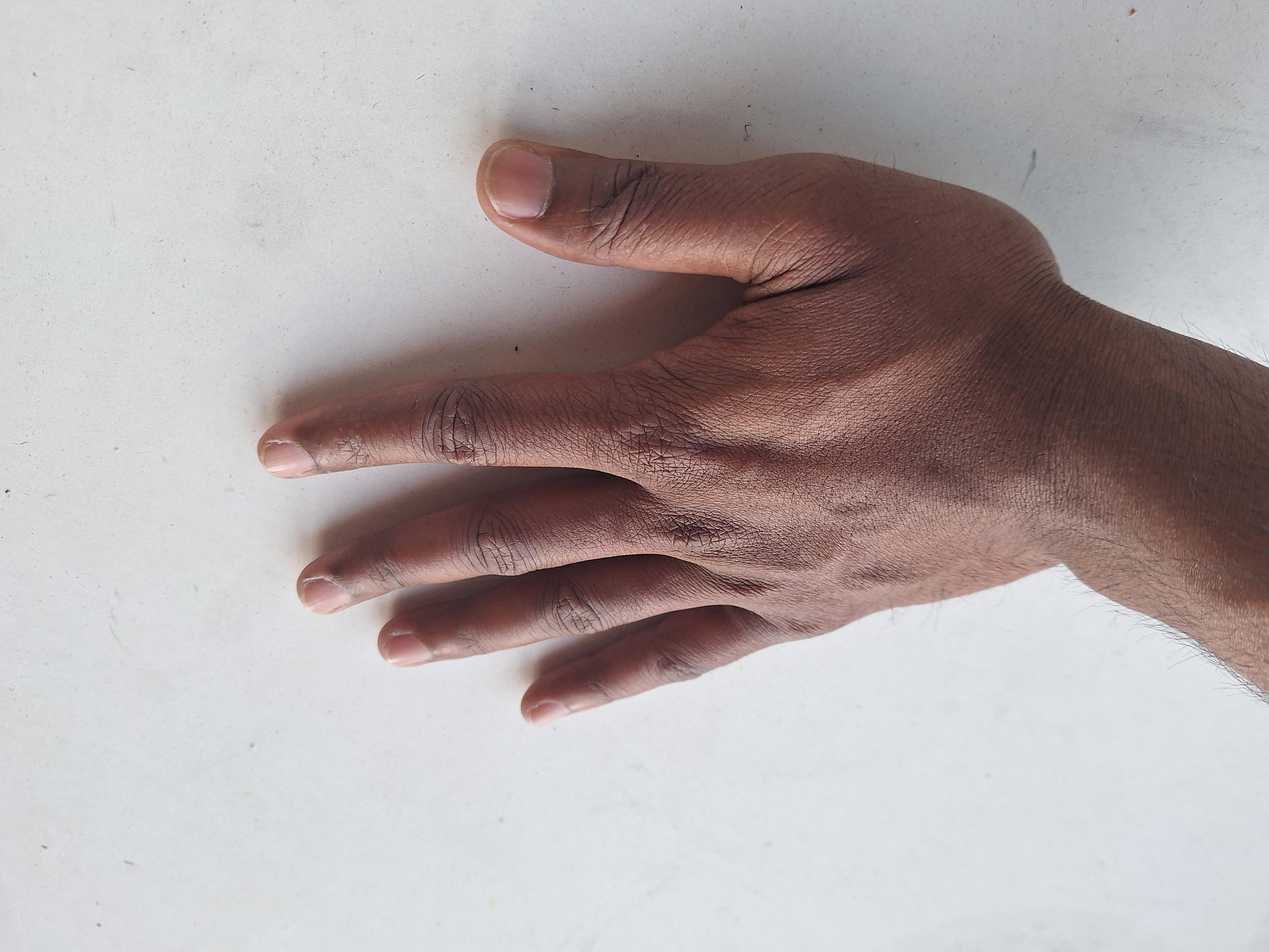Fingernail: (484, 144, 552, 221), (261, 442, 315, 479), (300, 578, 350, 615), (385, 633, 431, 666), (530, 702, 568, 728)
